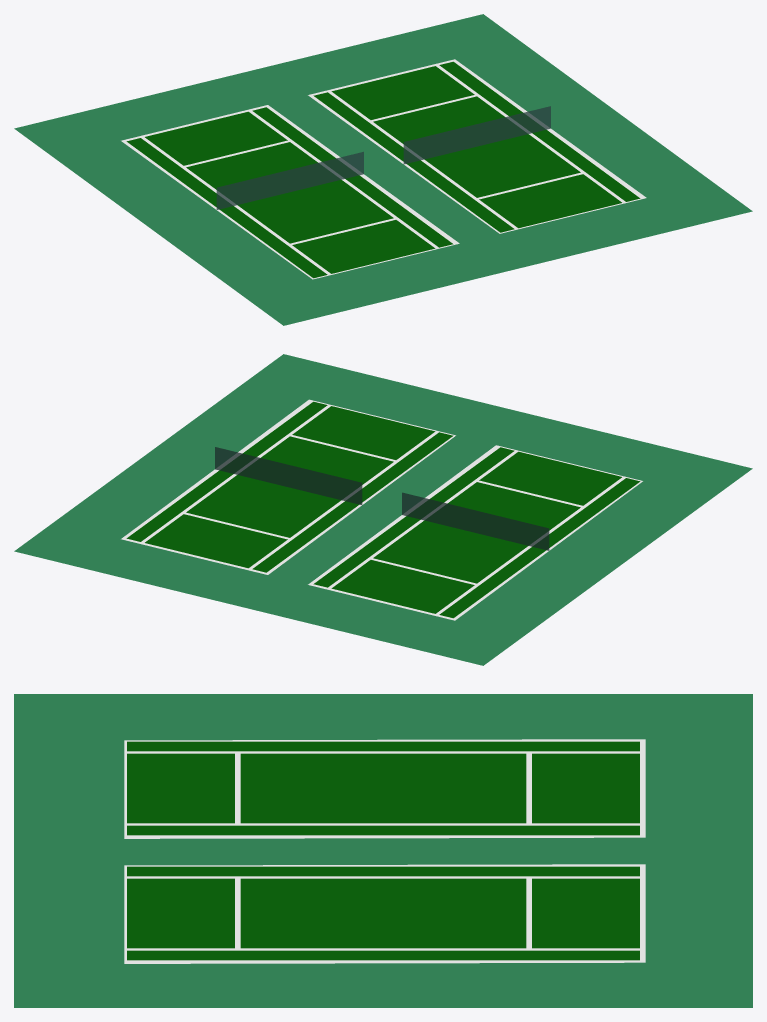
File: 25_tennis.dae
The picture shows the model from 3 angles, top to bottom: view 1: azimuth 30°, elevation 25°; view 2: azimuth 150°, elevation 25°; view 3: azimuth 270°, elevation 25°; orthographic projection. The views are drawn at different scales.
Visible parts, largest first — view 1: SketchUp (×15); view 2: SketchUp (×15); view 3: SketchUp (×13).
Boxes of the visible parts, box(x1,y1,x2,y2) form: SketchUp (×15): box(14, 14, 752, 325); SketchUp (×15): box(14, 354, 752, 665); SketchUp (×13): box(14, 694, 752, 1007).
Bounding box in the file's own units: 65.32 × 65 × 3.
